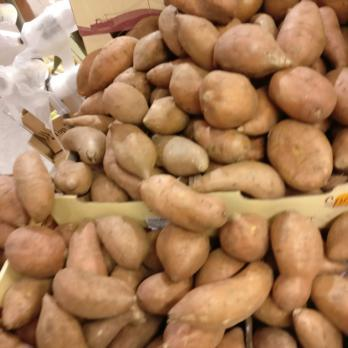Sweet potato: (150, 0, 347, 348), (0, 216, 147, 348), (75, 36, 153, 201), (2, 154, 56, 222)
